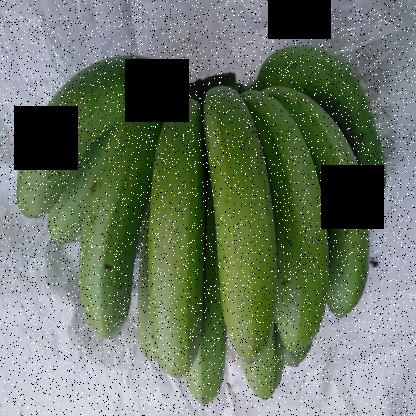freshunripe: (194, 80, 286, 366), (13, 46, 158, 226), (82, 72, 172, 351), (252, 74, 328, 363), (289, 88, 376, 334), (148, 81, 214, 389)
